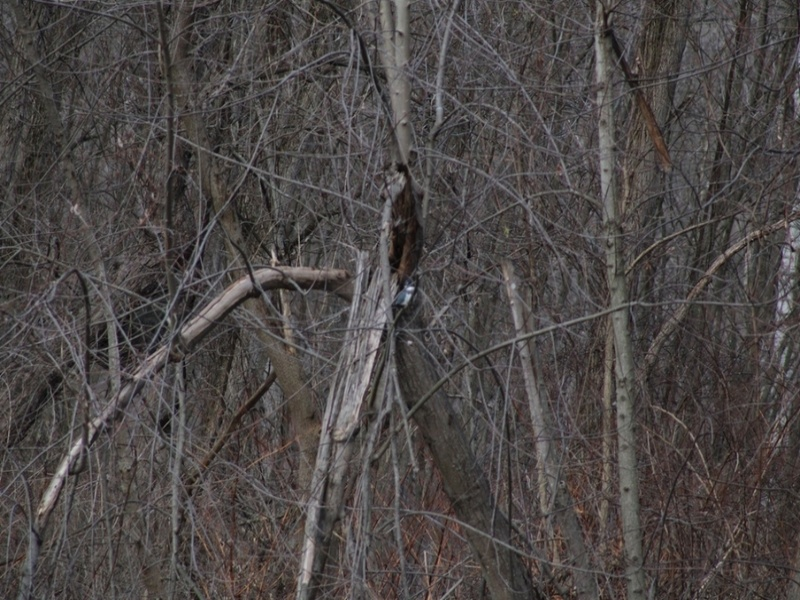kingfisher: (394, 280, 419, 309)
